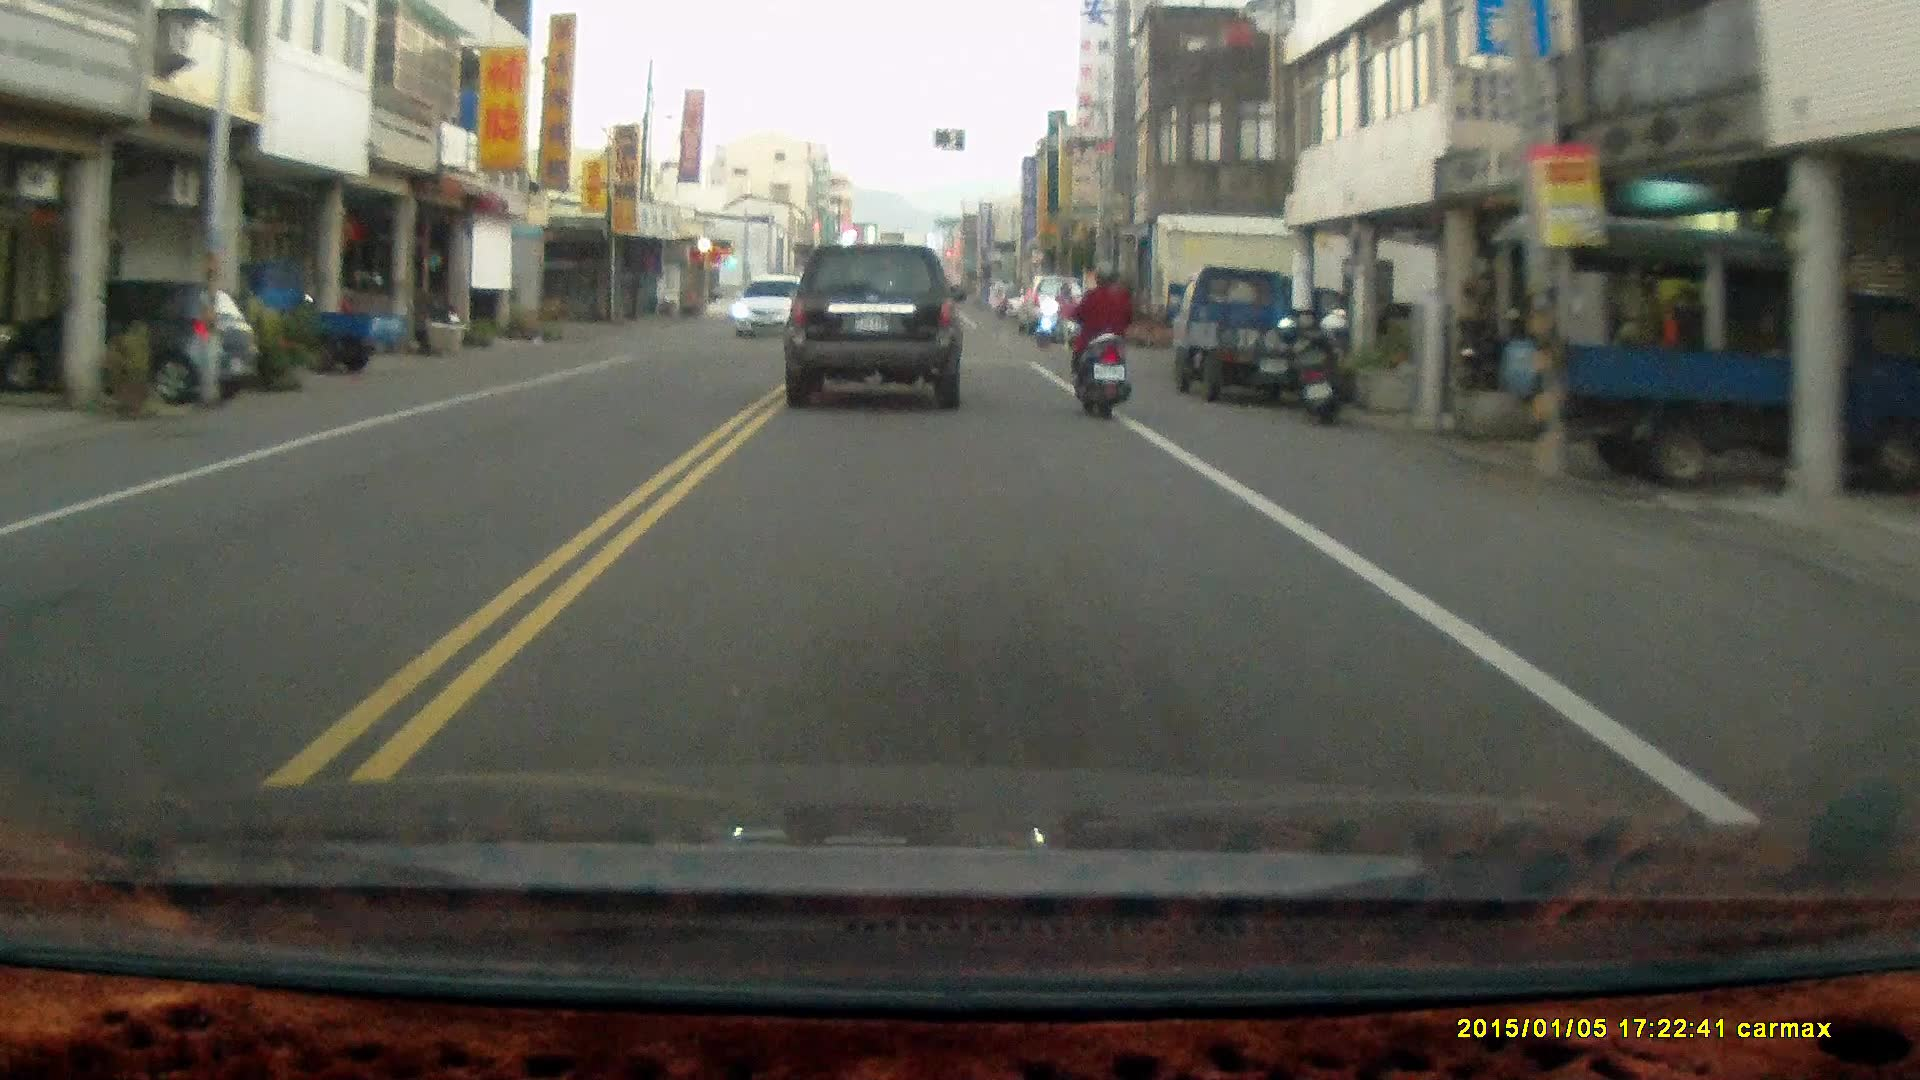rider: (1071, 259, 1130, 418), (1032, 283, 1078, 348)
vehicle: (1541, 220, 1920, 484), (1, 276, 262, 406), (785, 244, 966, 411), (1171, 268, 1349, 406), (214, 261, 414, 373), (735, 274, 808, 338)
